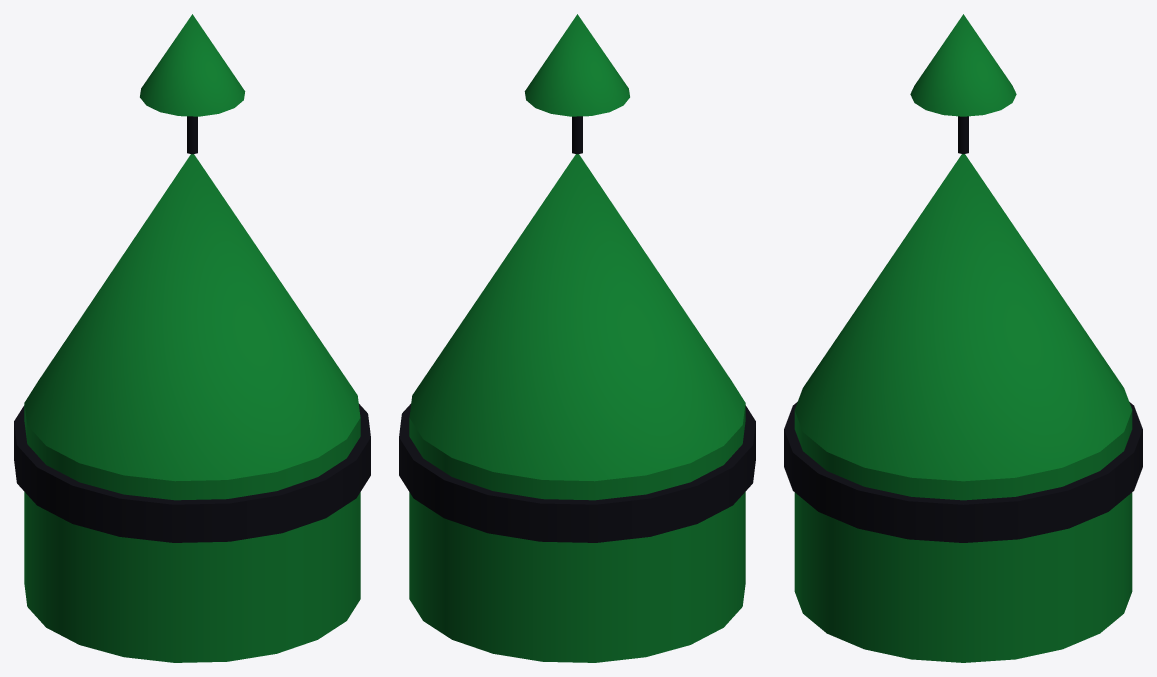
File: conical_green_cone.glb
3 views of the same model, side by side, from view 1: azimuth 30°, elevation 25°; view 2: azimuth 150°, elevation 25°; view 3: azimuth 270°, elevation 25° (orthographic).
Visible parts, largest first — view 1: conical_green_cone; view 2: conical_green_cone; view 3: conical_green_cone.
Boxes of the visible parts, box(x1,y1,x2,y2) form: conical_green_cone: box(14, 14, 370, 662); conical_green_cone: box(399, 14, 755, 662); conical_green_cone: box(784, 14, 1142, 662).
Size of the model in its own units: 1.7 by 3.02 by 1.7.
